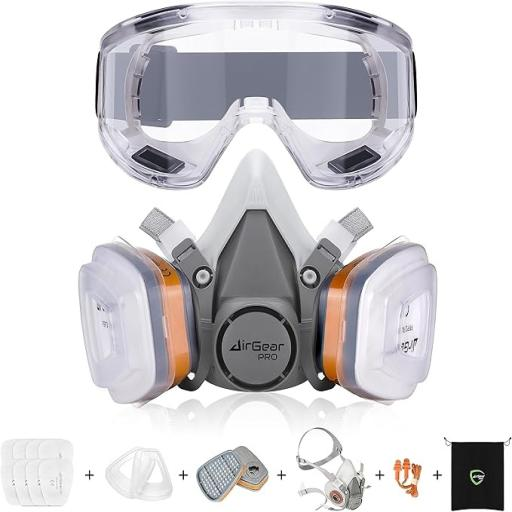mask: (78, 176, 451, 418)
